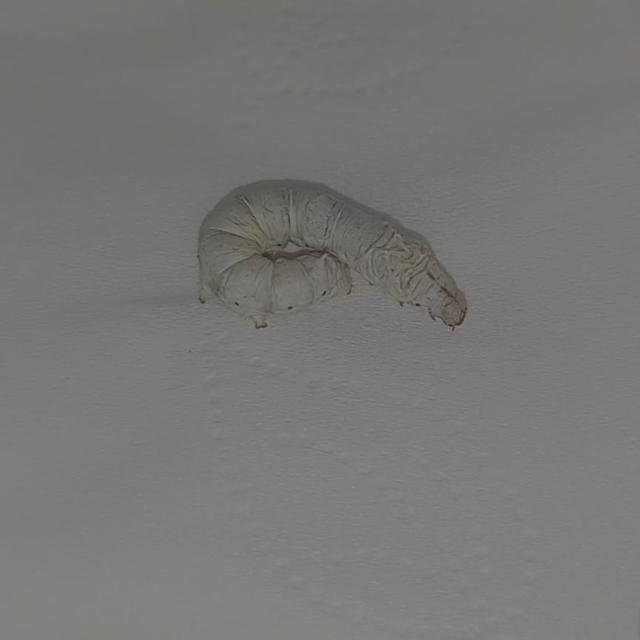Healthy: (180, 138, 496, 383)
